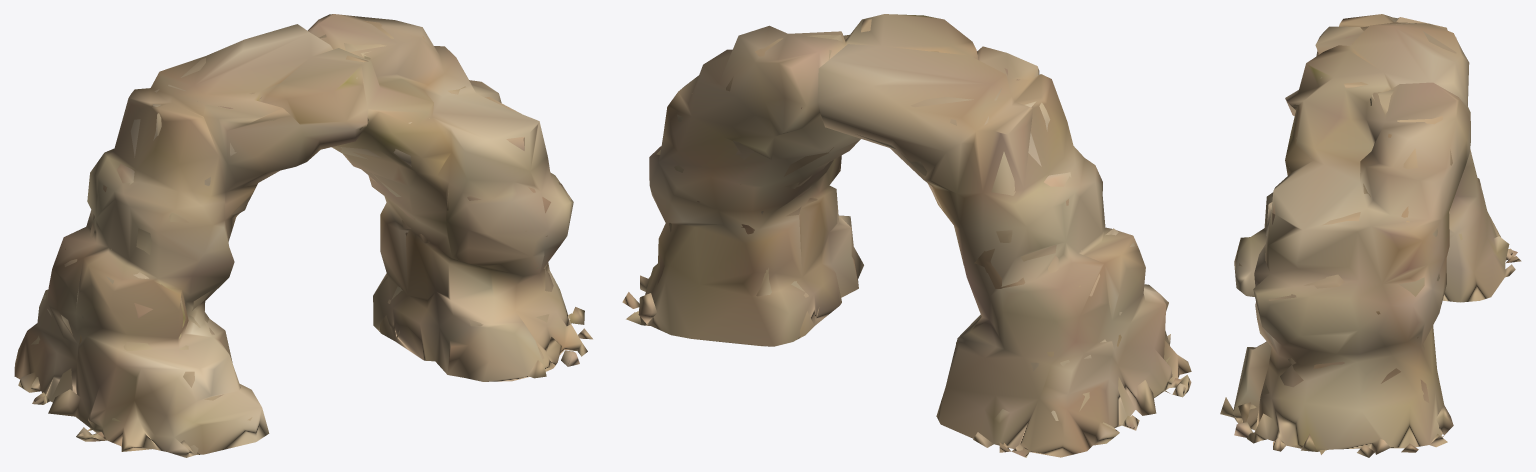
Rendered from RockArch_game.glb.
3 views of the same model, side by side, from view 1: azimuth 30°, elevation 25°; view 2: azimuth 150°, elevation 25°; view 3: azimuth 270°, elevation 25° (orthographic). The views are drawn at different scales.
Visible parts, largest first — view 1: RockArch; view 2: RockArch; view 3: RockArch.
Boxes of the visible parts, x1,y1,x2,y2 form: RockArch: [14, 14, 592, 457]; RockArch: [622, 14, 1191, 457]; RockArch: [1220, 14, 1521, 457].
Size of the model in its own units: 1.03 by 0.5931 by 0.5723.
